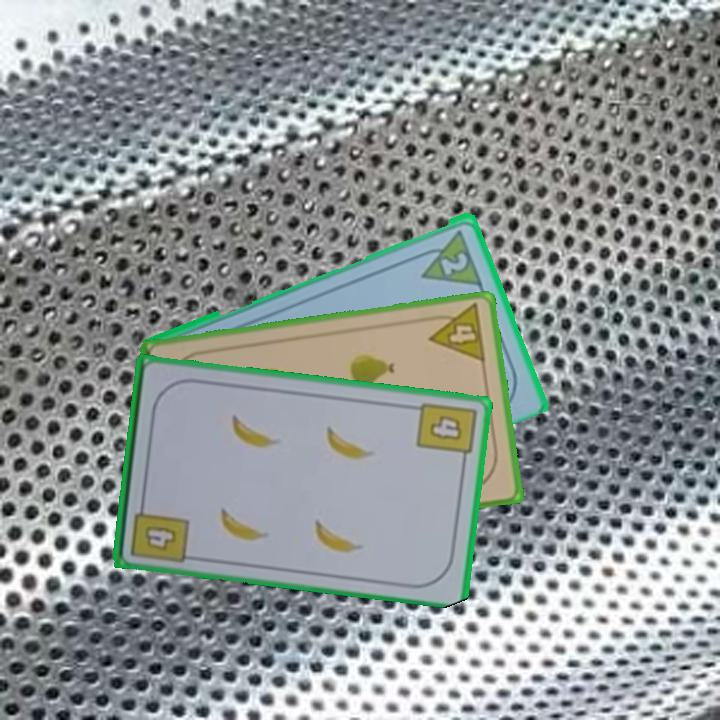2p: (437, 248, 471, 278)
4b: (413, 398, 479, 467), (127, 495, 191, 566)
4p: (423, 300, 488, 365)
